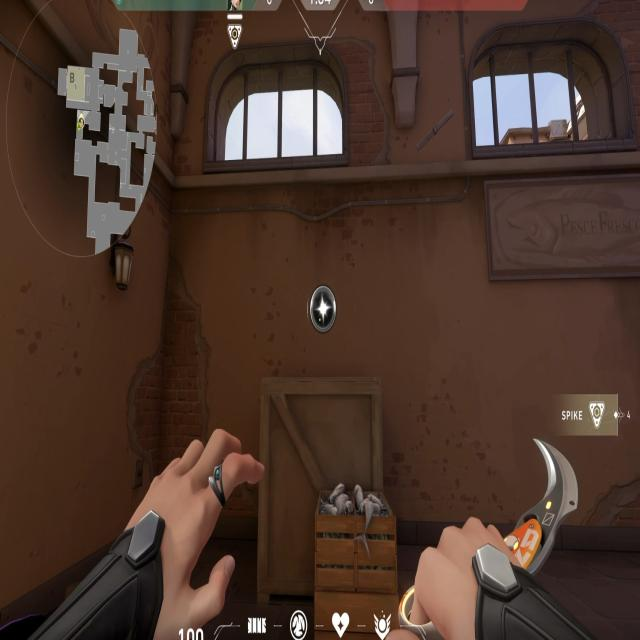B_Main_Wallbang: (229, 269, 414, 626)
Throwables: (448, 14, 640, 178), (196, 28, 372, 188)
